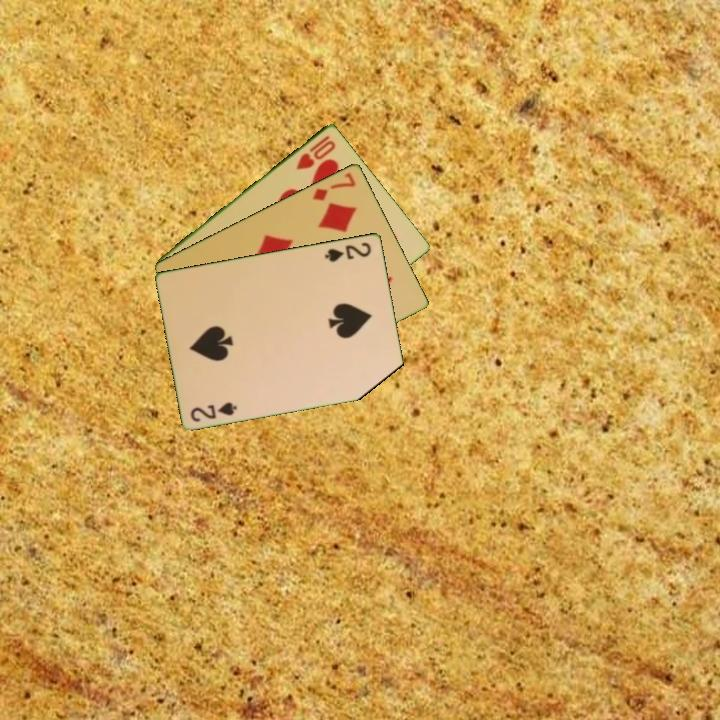10h: (293, 131, 339, 172)
2s: (321, 238, 374, 264), (187, 398, 240, 424)
7d: (309, 168, 359, 203)
